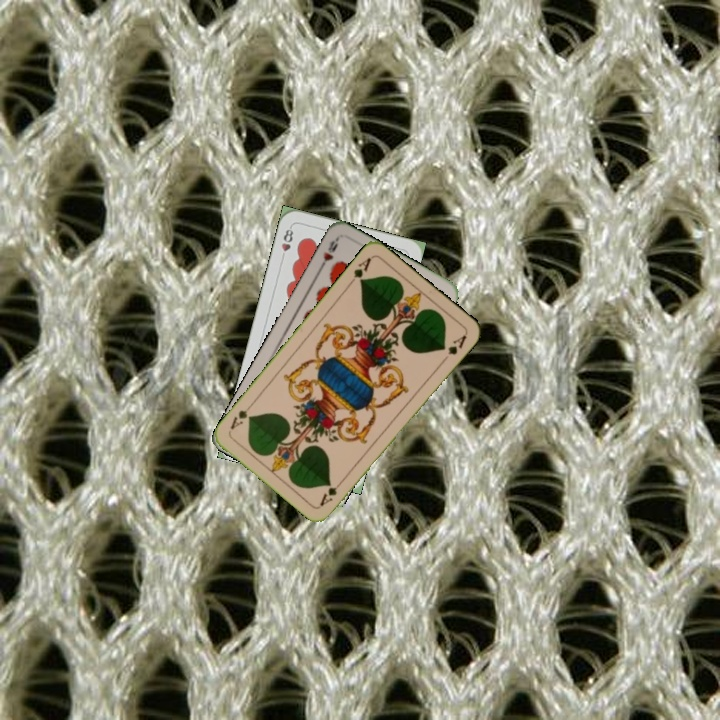GA: (315, 475, 347, 509), (344, 253, 374, 288)
H8: (277, 222, 296, 262)
H9: (315, 234, 341, 272)
